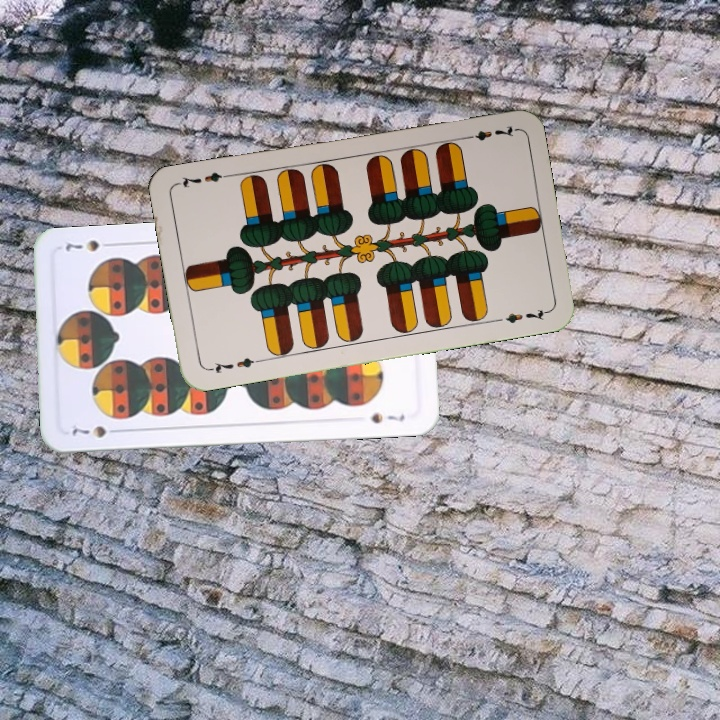E7: (204, 353, 263, 376), (459, 121, 518, 143)
S7: (65, 421, 124, 440)
